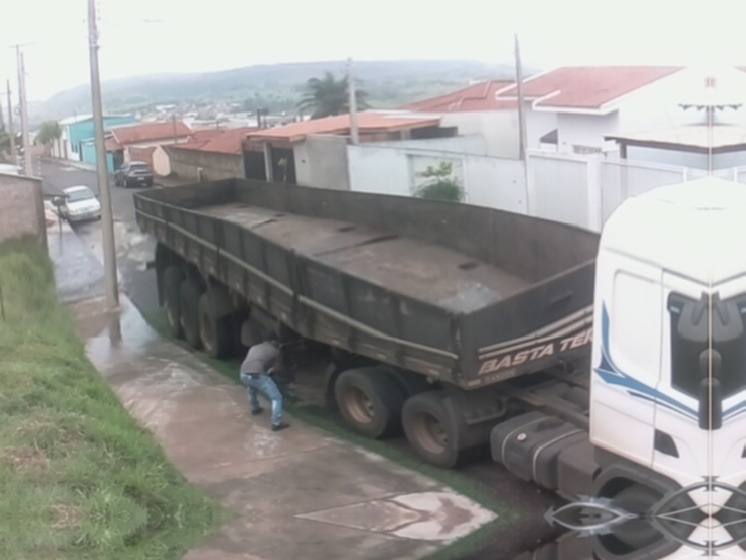person: (237, 330, 293, 430)
